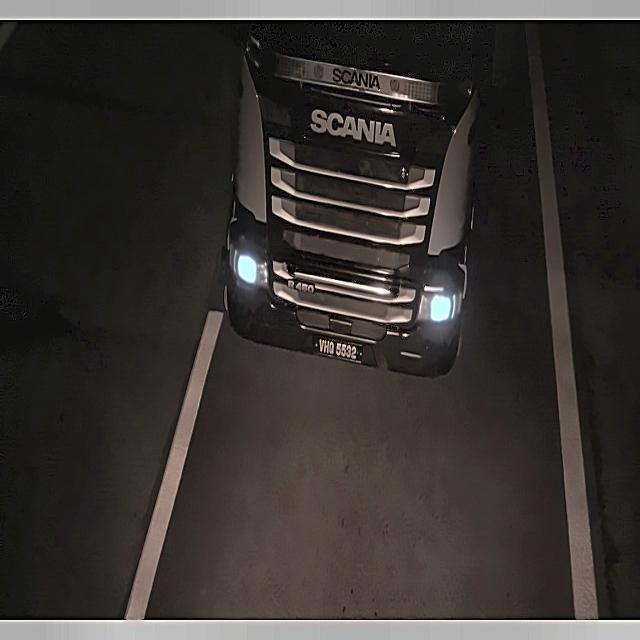car: (308, 330, 368, 369)
